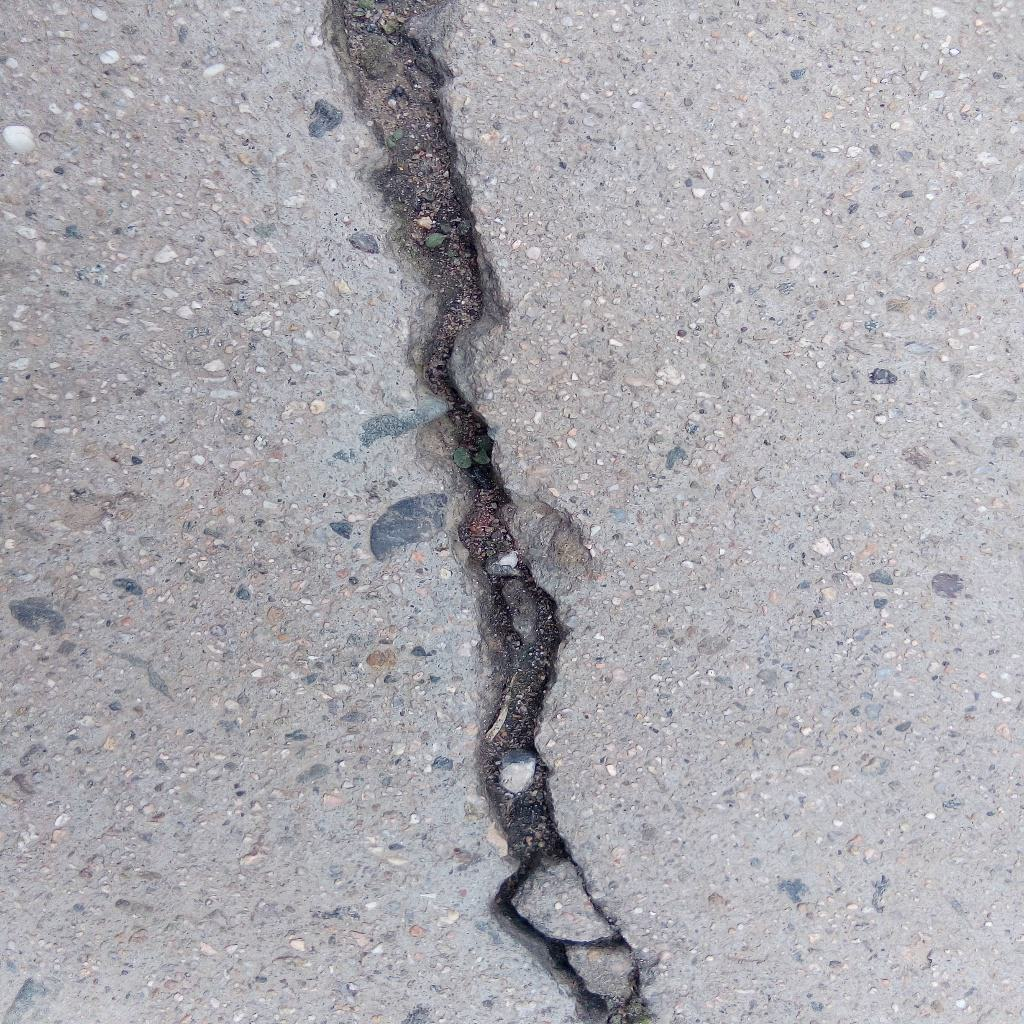Crack: (324, 1, 650, 1024)
